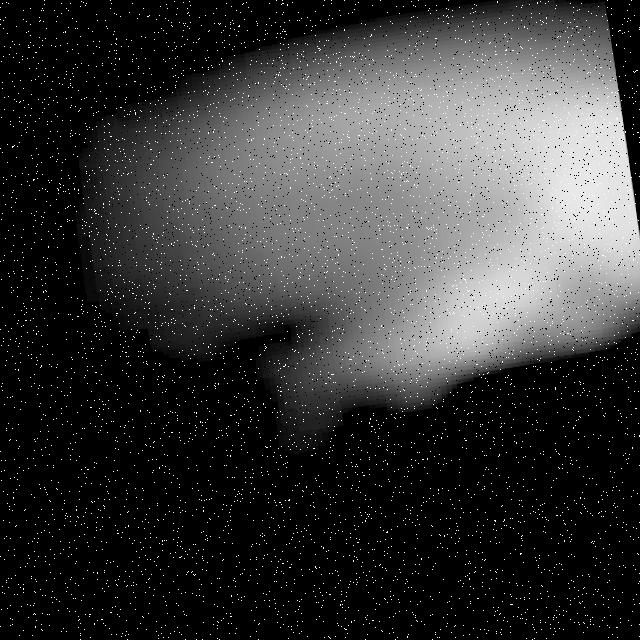person: (155, 11, 640, 438)
